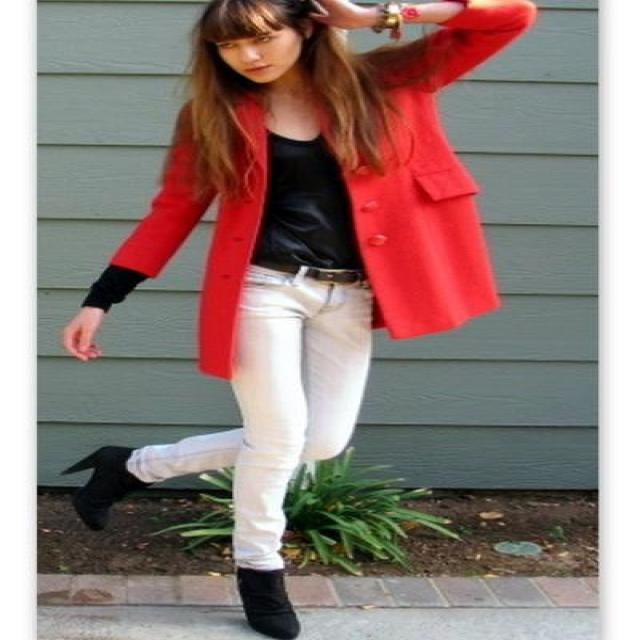jacket: (107, 0, 536, 379)
pants: (126, 264, 372, 568)
shirt: (82, 132, 371, 312)
shoe: (66, 446, 299, 639)
